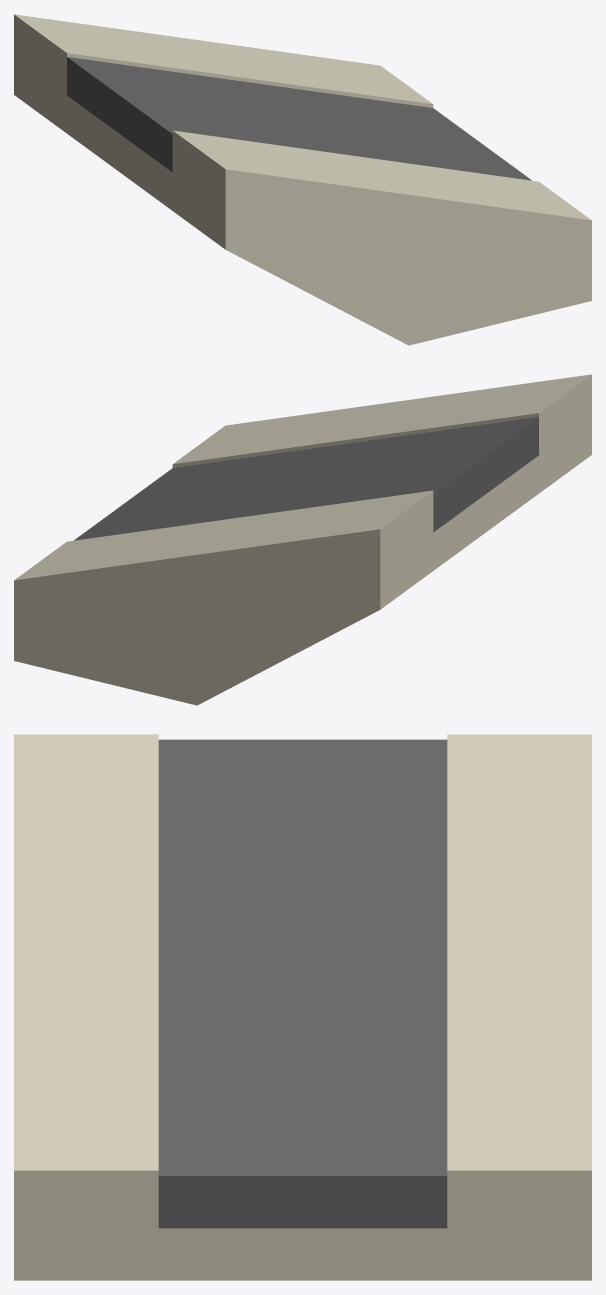
Rendered from roadTile_249.obj.
The picture shows the model from 3 angles, top to bottom: view 1: azimuth 30°, elevation 25°; view 2: azimuth 150°, elevation 25°; view 3: azimuth 270°, elevation 25°; orthographic projection. The views are drawn at different scales.
Parts seen in each view (by area): view 1: Mesh1_Group1_Model.248; view 2: Mesh1_Group1_Model.248; view 3: Mesh1_Group1_Model.248.
Boxes of the visible parts, left/top/right/bottom form: Mesh1_Group1_Model.248: left=14, top=14, right=591, bottom=345; Mesh1_Group1_Model.248: left=14, top=374, right=591, bottom=705; Mesh1_Group1_Model.248: left=14, top=734, right=591, bottom=1280.
Size of the model in its own units: 3 by 1.73 by 3.
